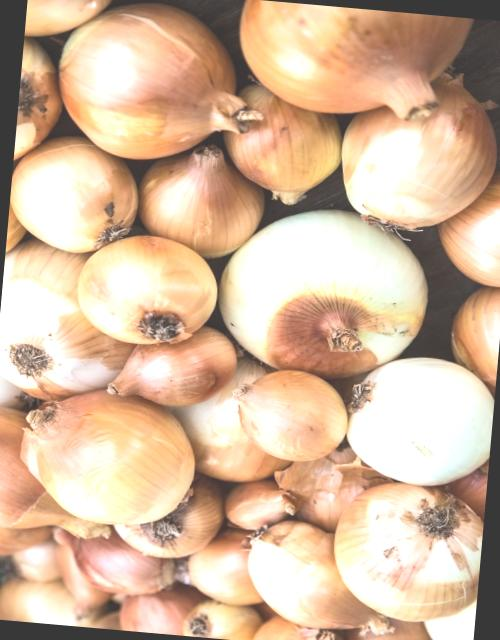Cebolla-: (174, 202, 486, 472)
